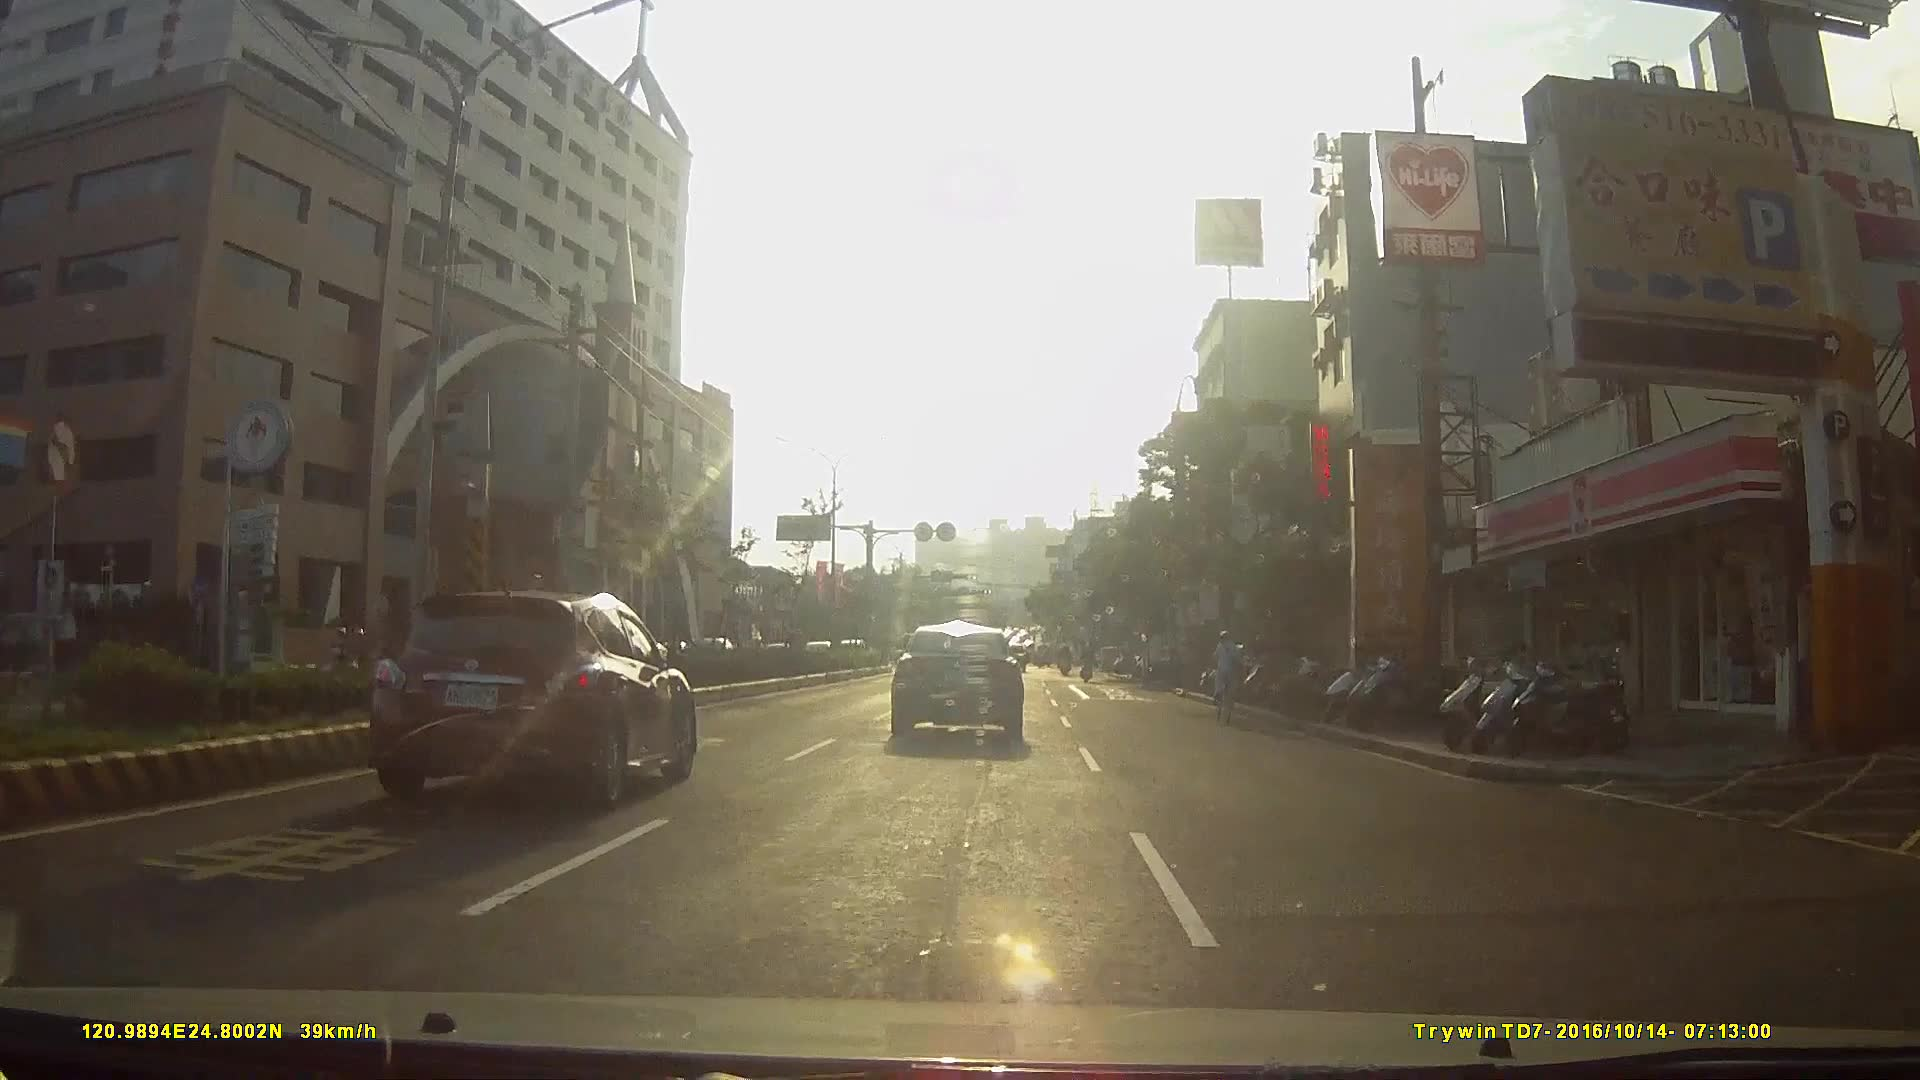rider: (1209, 630, 1247, 718)
vehicle: (357, 571, 714, 806), (888, 615, 1040, 748), (763, 607, 822, 662), (1134, 627, 1190, 683)
